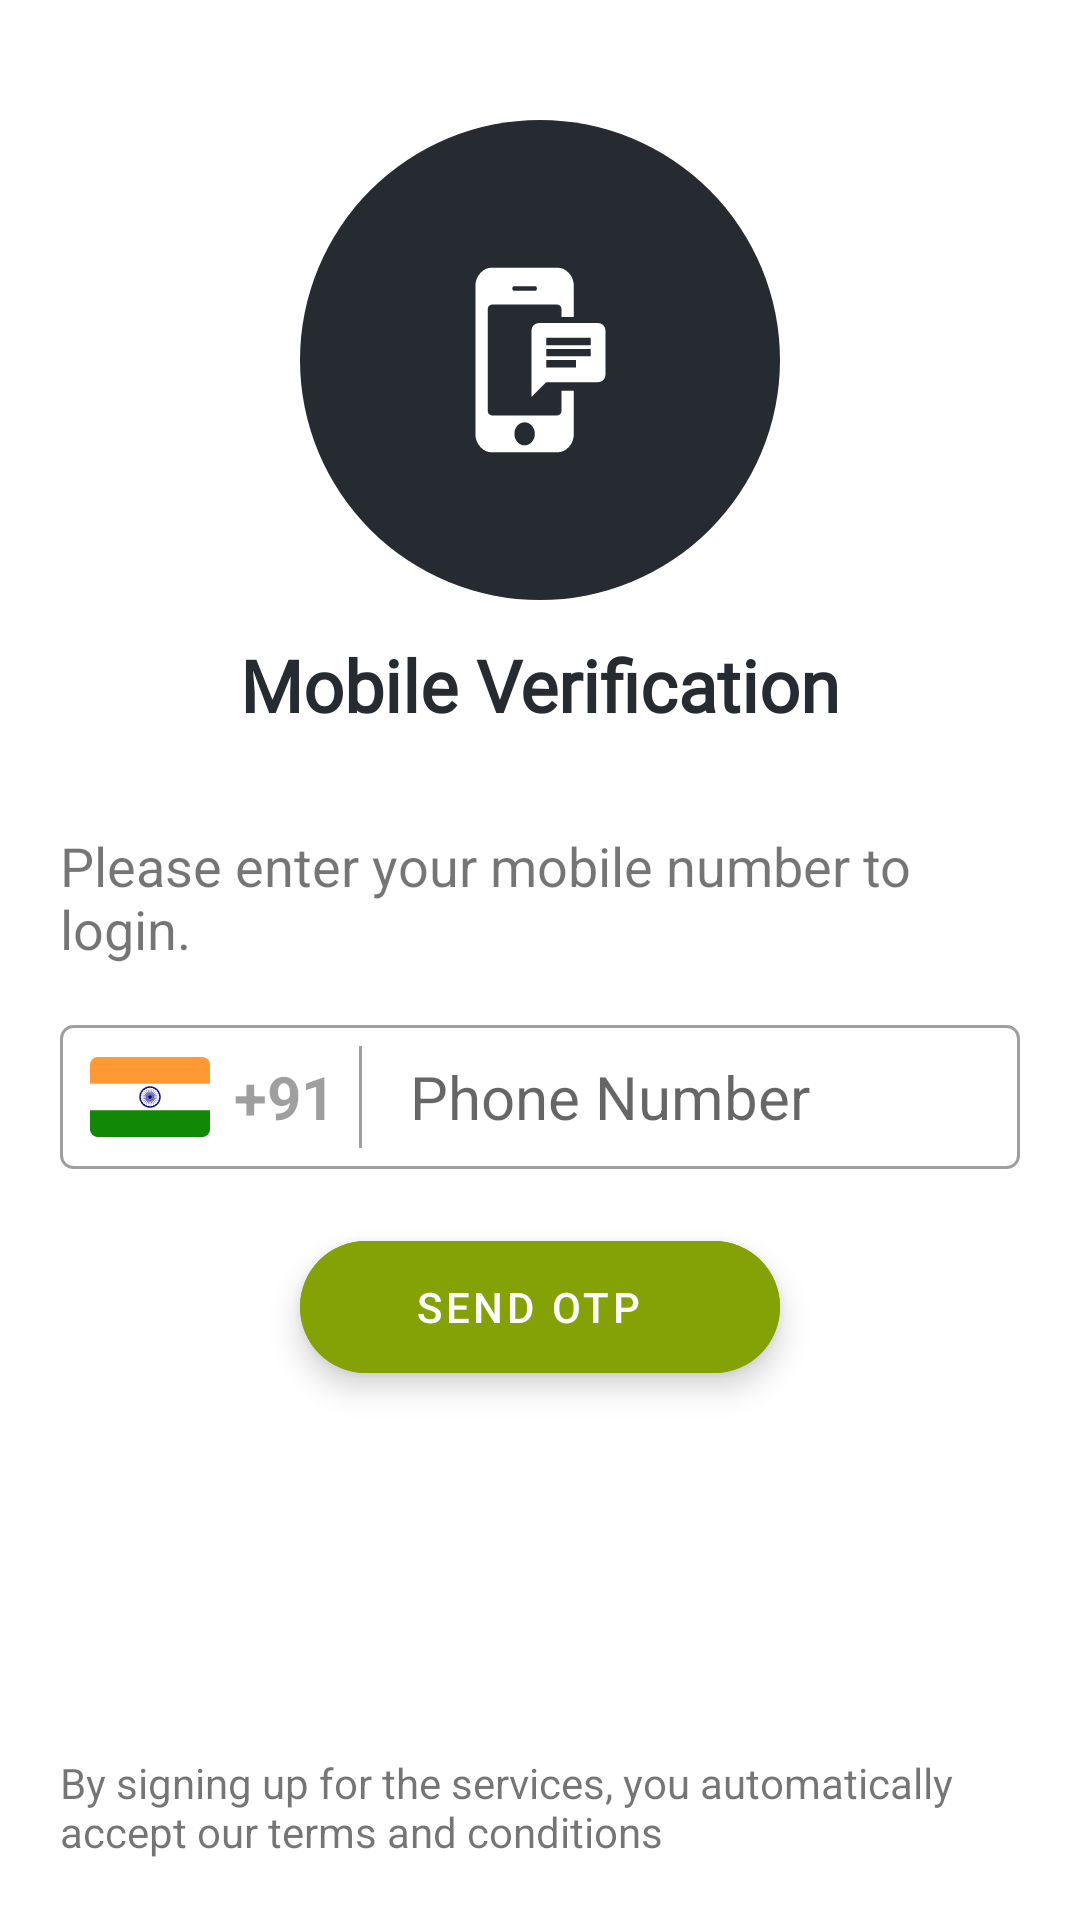

Icon click points for this 1080px x 1920px phone screenshot, format point (x, y):
india flag: point (150, 1097)
